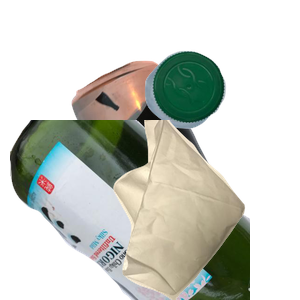glass: (10, 120, 250, 300)
metal: (69, 58, 300, 238)
plastic: (142, 48, 300, 169)
trash: (111, 120, 300, 300)
